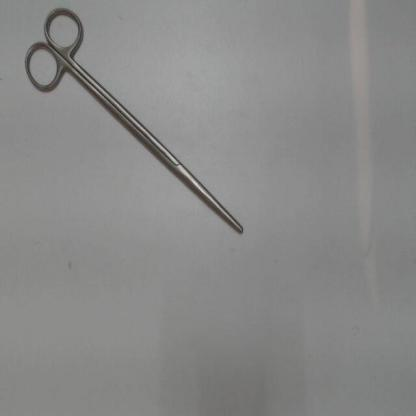9 Metzenbaum Scissors: (20, 2, 245, 238)
